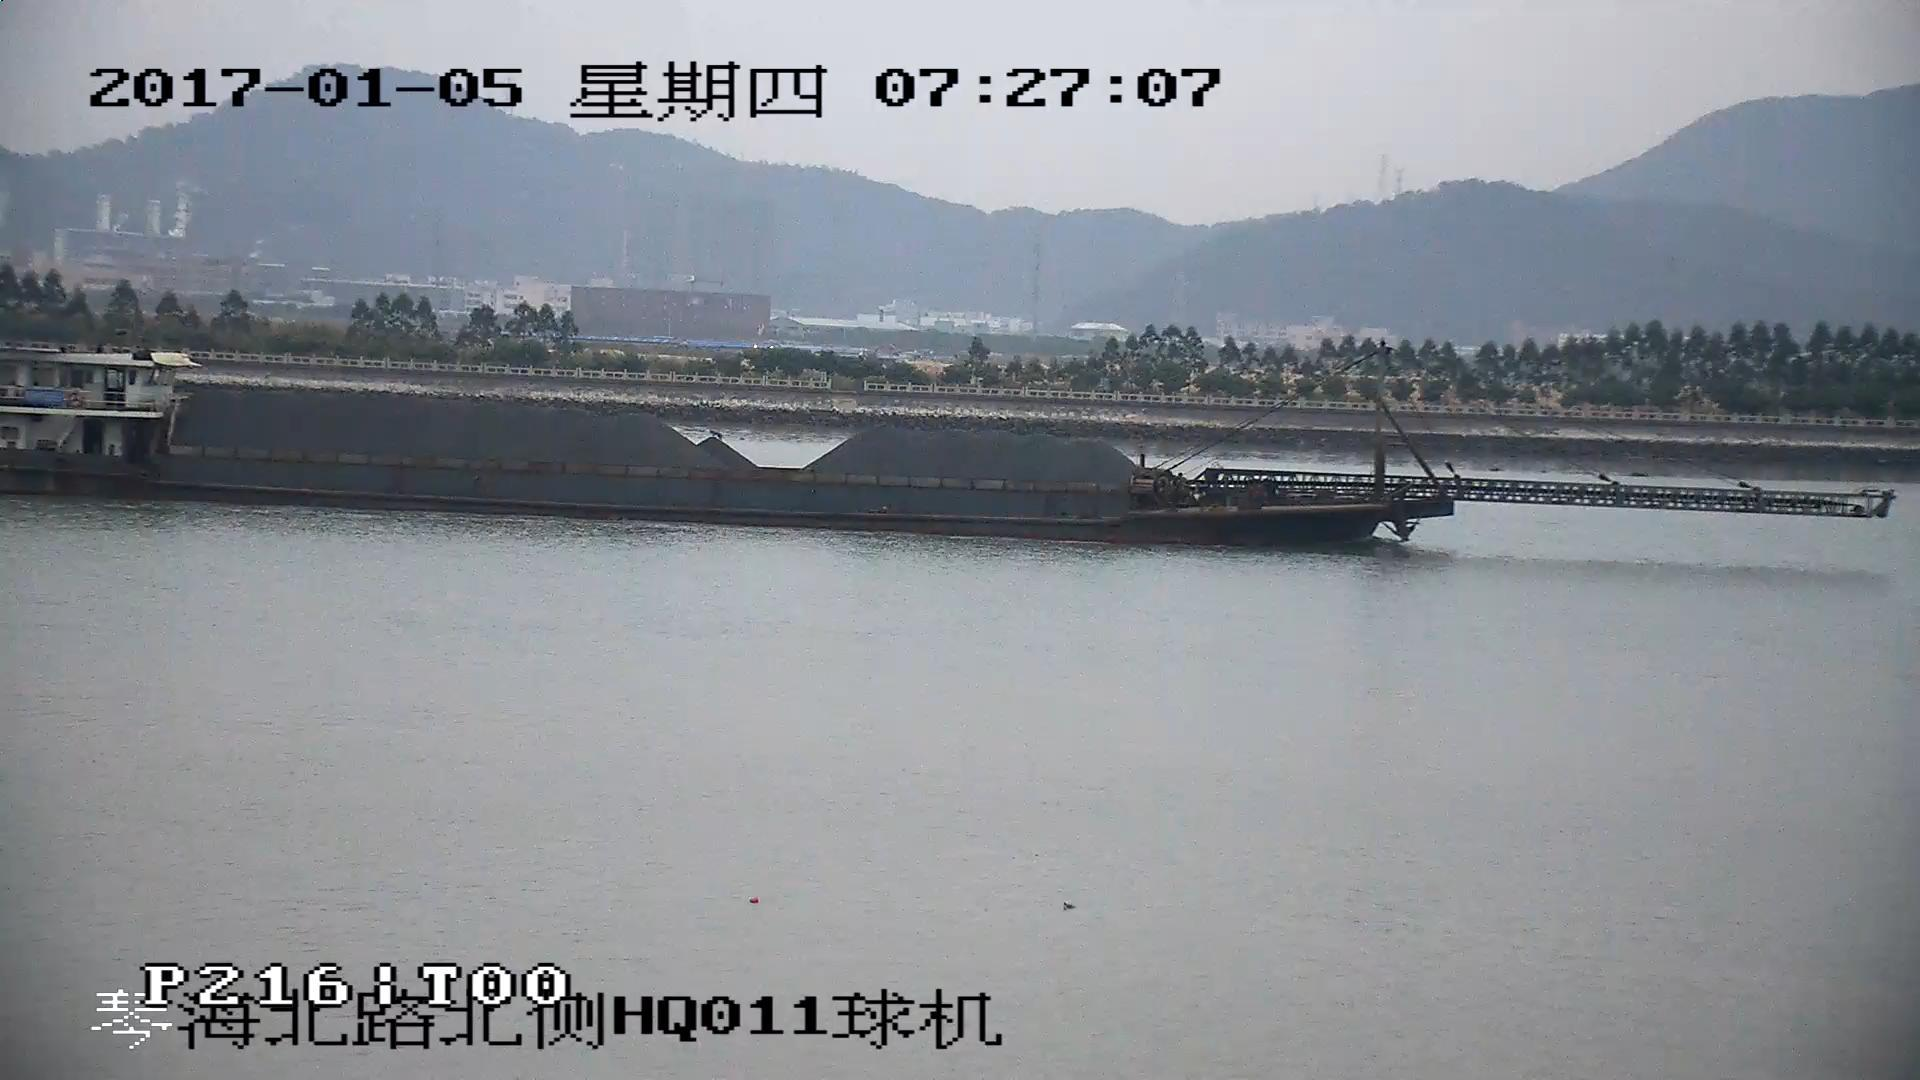Ship: (3, 353, 1887, 539)
